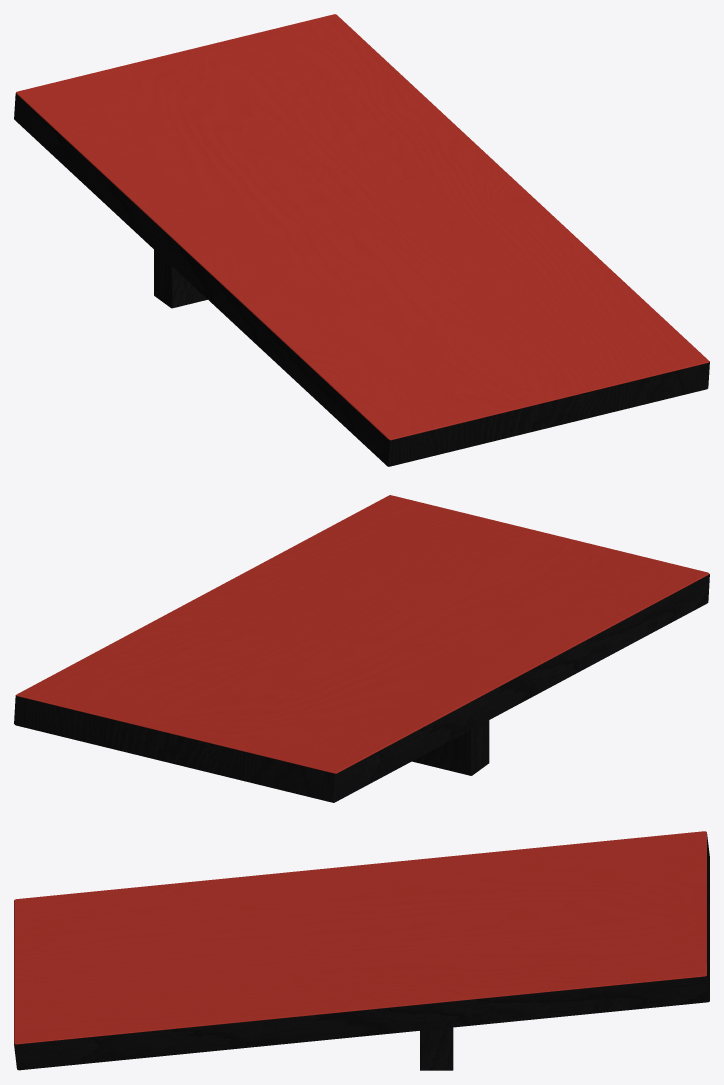
File: sara09.fbx
The picture shows the model from 3 angles, top to bottom: view 1: azimuth 30°, elevation 25°; view 2: azimuth 150°, elevation 25°; view 3: azimuth 270°, elevation 25°; orthographic projection. The views are drawn at different scales.
Visible parts, largest first — view 1: Sara09; view 2: Sara09; view 3: Sara09.
Boxes of the visible parts, x1,y1,x2,y2 form: Sara09: [14, 14, 709, 466]; Sara09: [14, 495, 709, 802]; Sara09: [14, 831, 709, 1070].
Size of the model in its own units: 11.52 by 3.56 by 23.38.
